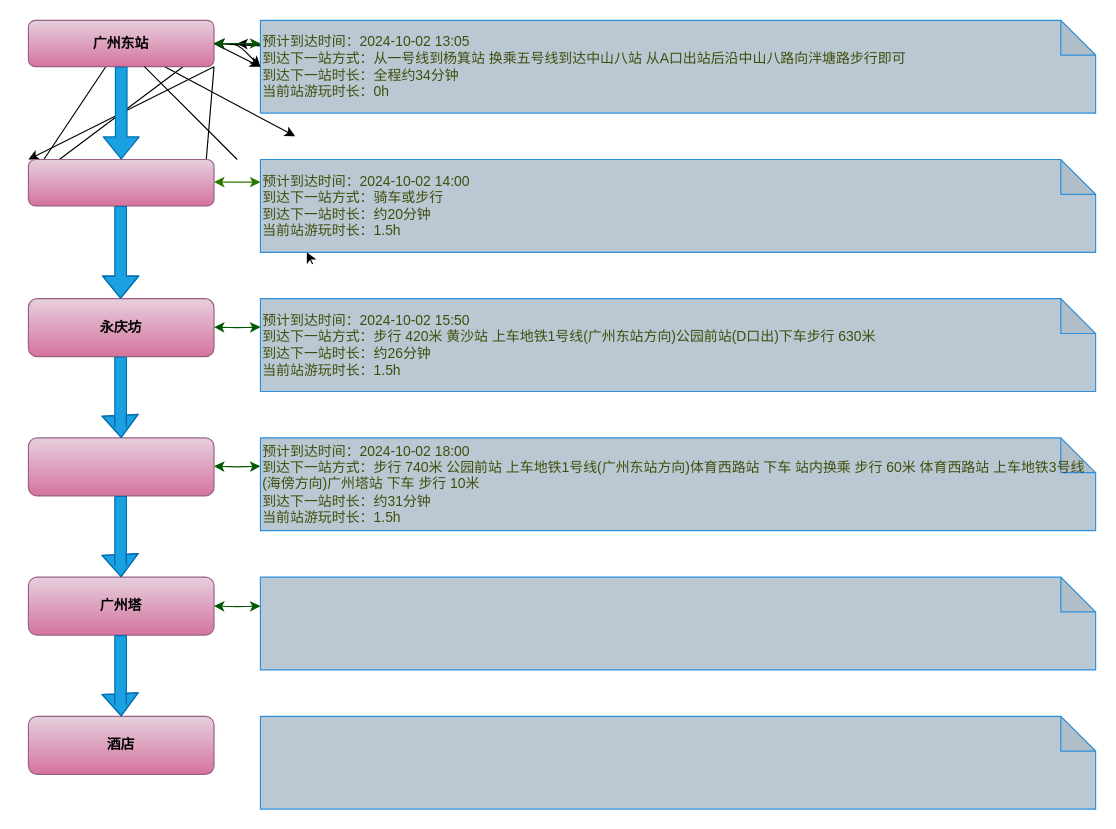
Image size: 1116x829. Some labels were removed from this diagram. Here are the shapes that lost their labels. From the top down, the centre of each, then its label:
At point 120,182: "泮塘古村".
At point 120,466: "大佛古寺".
At point 677,623: "预计到达时间：2024-10-02 20:00 到达下一站方式：步行或骑行 到达下一站时长：20分钟 (附近酒店或民宿多) 当前站游玩时长：1h".
At point 677,762: "预计到达时间：2024-10-02 21:30 吃饭：1±0.5h 休息： 2024-10-02 22:30".
